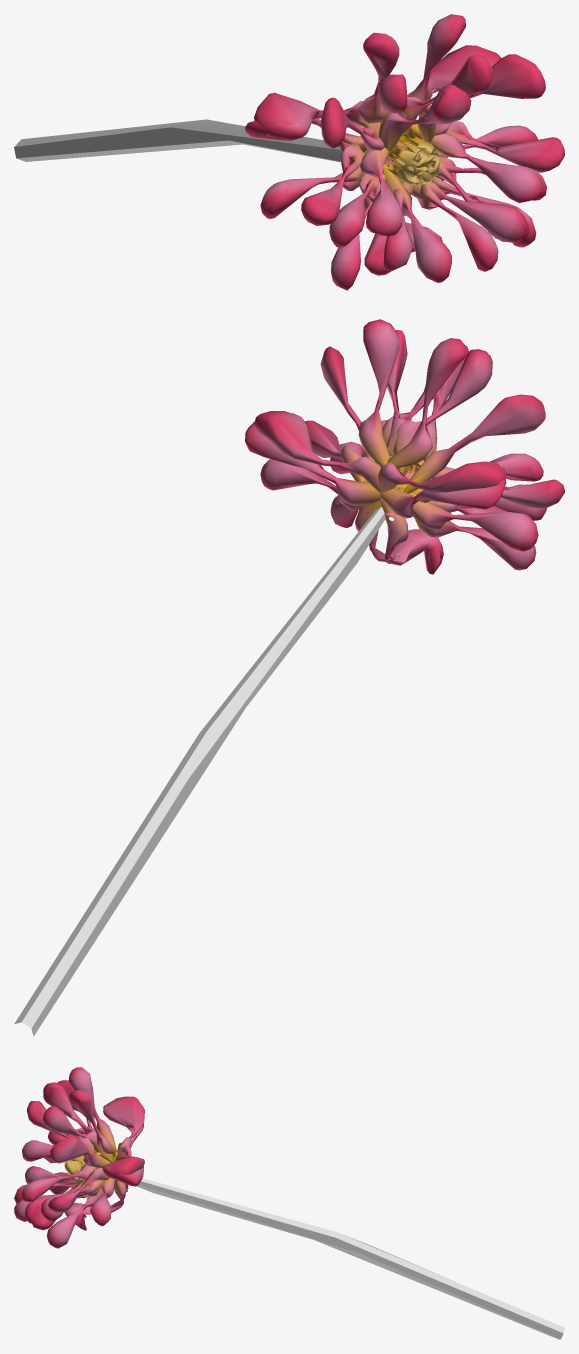
The picture shows the model from 3 angles, top to bottom: view 1: azimuth 30°, elevation 25°; view 2: azimuth 150°, elevation 25°; view 3: azimuth 270°, elevation 25°; orthographic projection. The views are drawn at different scales.
Visible parts, largest first — view 1: LOD 5_634a5d68-0e51-5752-9ff0-c671a2fe1265; view 2: LOD 5_634a5d68-0e51-5752-9ff0-c671a2fe1265; view 3: LOD 5_634a5d68-0e51-5752-9ff0-c671a2fe1265.
Boxes of the visible parts, x1,y1,x2,y2 form: LOD 5_634a5d68-0e51-5752-9ff0-c671a2fe1265: [14, 14, 564, 290]; LOD 5_634a5d68-0e51-5752-9ff0-c671a2fe1265: [14, 319, 564, 1036]; LOD 5_634a5d68-0e51-5752-9ff0-c671a2fe1265: [14, 1067, 564, 1339].
Size of the model in its own units: 5.89 by 8.7 by 16.68.
